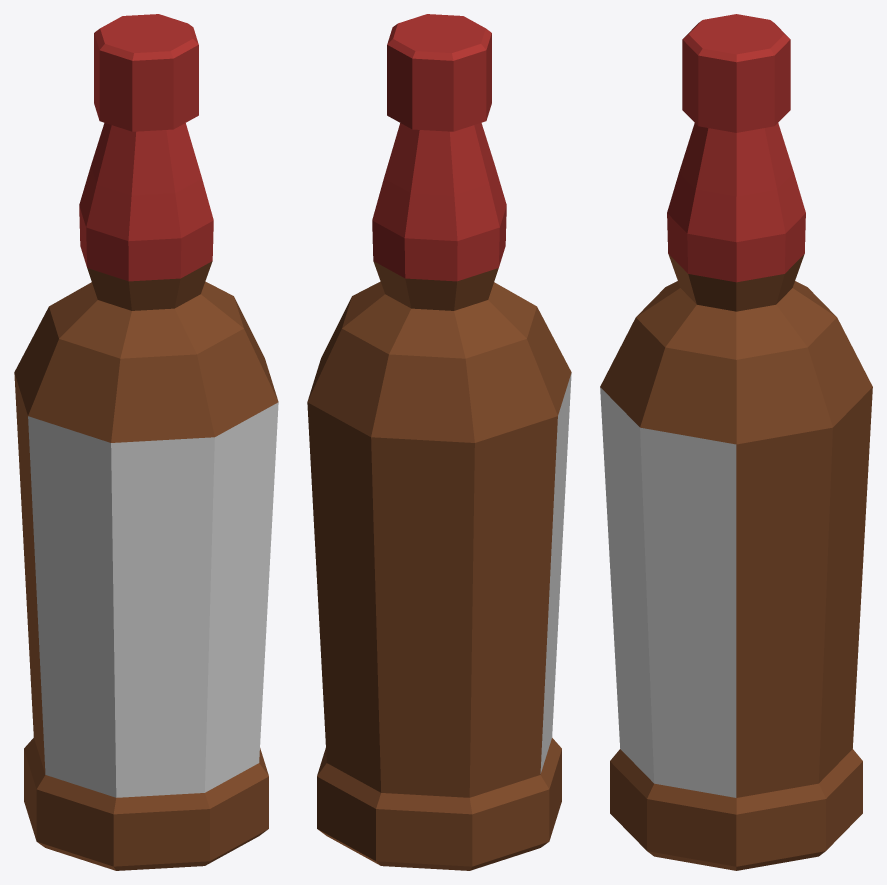
The model's file is Whiskey.fbx.
3 renders of one model, left to right at view 1: azimuth 30°, elevation 25°; view 2: azimuth 150°, elevation 25°; view 3: azimuth 270°, elevation 25°, orthographic.
Visible parts, largest first — view 1: Cylinder; view 2: Cylinder; view 3: Cylinder.
Part boxes in pixels (x1=…): Cylinder: x1=14, y1=14, x2=278, y2=870; Cylinder: x1=307, y1=14, x2=571, y2=870; Cylinder: x1=600, y1=14, x2=872, y2=870.
Size of the model in its own units: 46.33 by 46.33 by 148.
